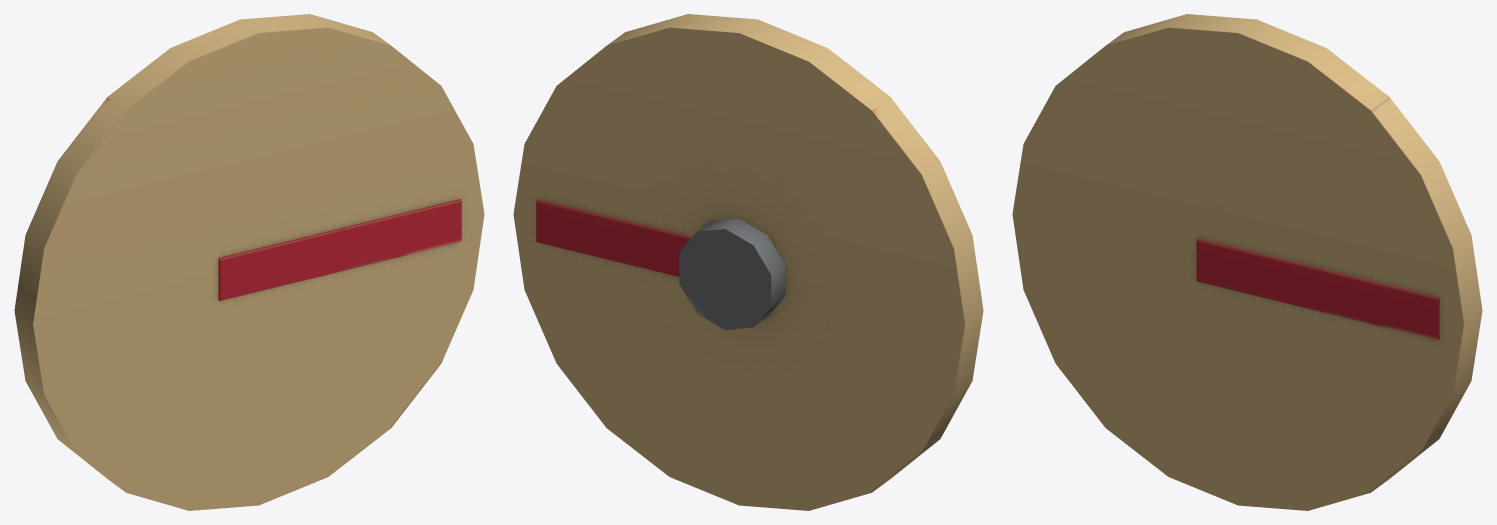
The model's file is luthier_sander.glb.
3 renders of one model, left to right at view 1: azimuth 30°, elevation 25°; view 2: azimuth 150°, elevation 25°; view 3: azimuth 330°, elevation 25°, orthographic.
Visible parts, largest first — view 1: luthier_sander; view 2: luthier_sander; view 3: luthier_sander.
Boxes of the visible parts, left/top/right/bottom form: luthier_sander: left=14, top=14, right=484, bottom=510; luthier_sander: left=513, top=14, right=983, bottom=510; luthier_sander: left=1012, top=14, right=1482, bottom=510.
Bounding box in the file's own units: 0.56 × 0.56 × 0.0725.
1 material, 1 textured.
